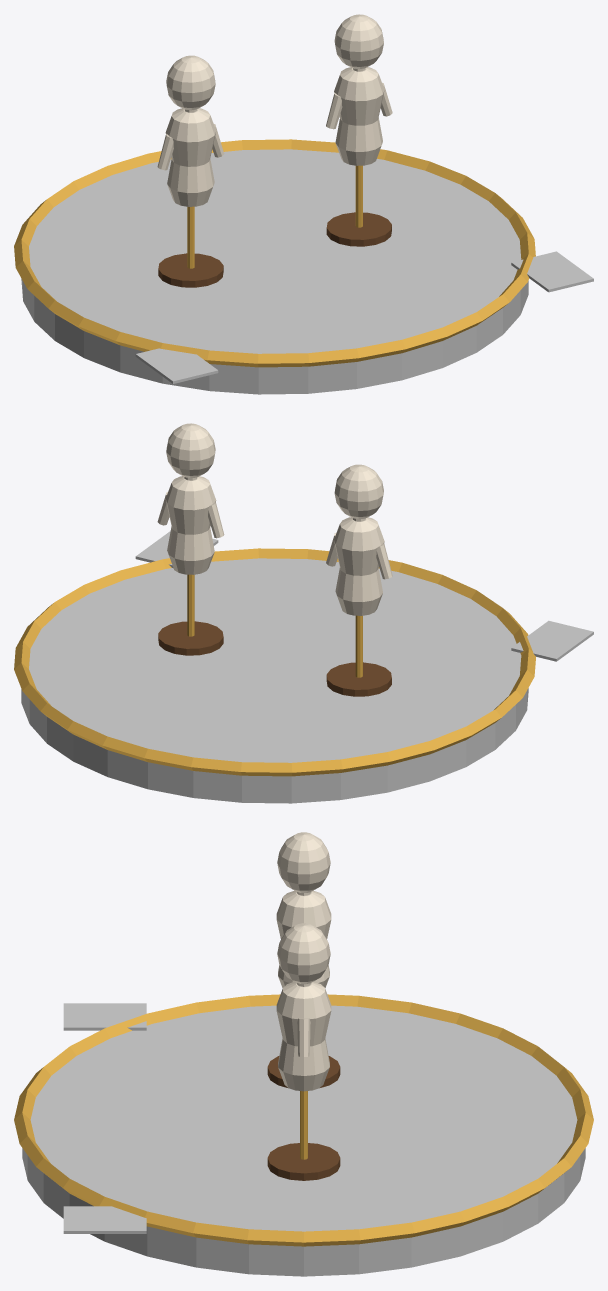
The model's file is ev_mannequin_pair_v01.glb.
3 renders of one model, top to bottom at view 1: azimuth 30°, elevation 25°; view 2: azimuth 150°, elevation 25°; view 3: azimuth 270°, elevation 25°, orthographic. The views are drawn at different scales.
Visible parts, largest first — view 1: stage, mannequin_R, mannequin_L; view 2: stage, mannequin_L, mannequin_R; view 3: stage, mannequin_L, mannequin_R.
Boxes of the visible parts, box(x1,y1,x2,y2) form: stage: box(14, 139, 593, 394); mannequin_R: box(157, 55, 224, 287); mannequin_L: box(326, 14, 392, 246); stage: box(14, 531, 593, 803); mannequin_L: box(157, 423, 224, 655); mannequin_R: box(326, 464, 392, 696); stage: box(14, 994, 593, 1276); mannequin_L: box(267, 923, 340, 1180); mannequin_R: box(267, 832, 340, 1087).
Size of the model in its own units: 3.5 by 1.85 by 3.5.
